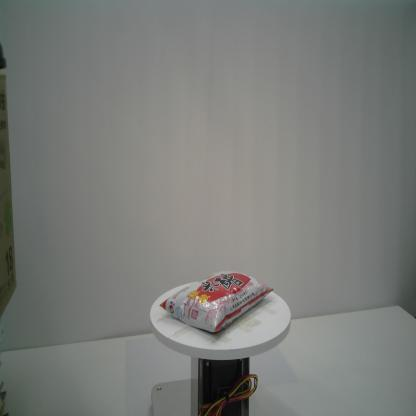Seasoner: (159, 270, 274, 334)
